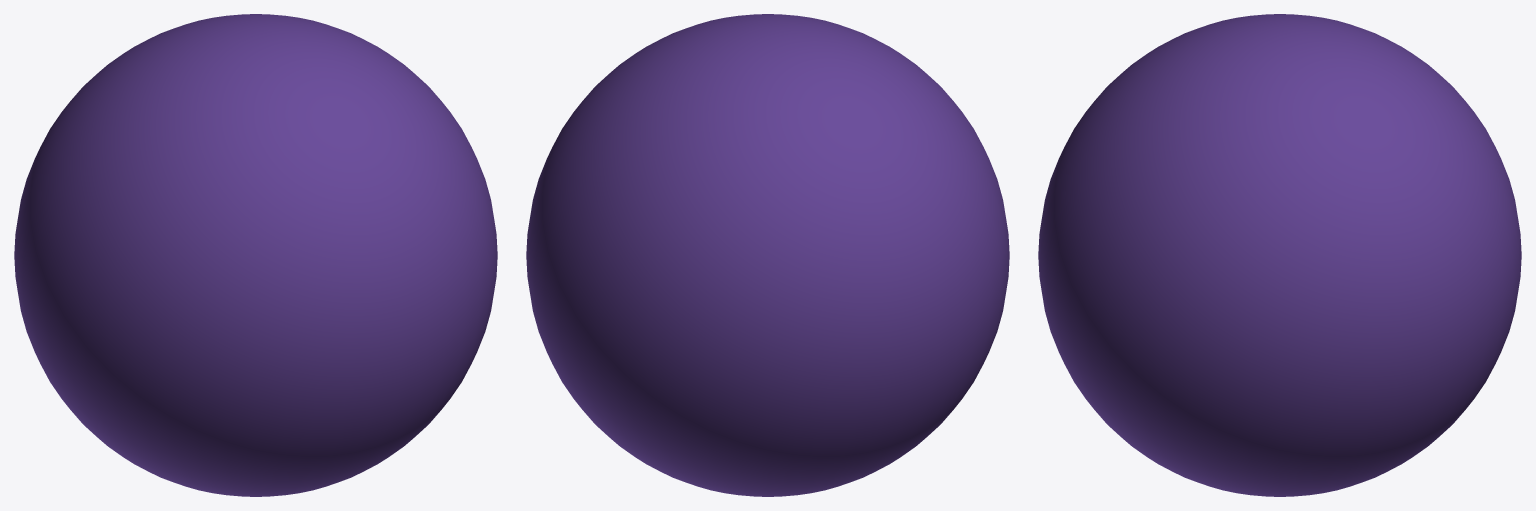
Rendered from planet_5.obj.
3 views of the same model, side by side, from view 1: azimuth 30°, elevation 25°; view 2: azimuth 150°, elevation 25°; view 3: azimuth 270°, elevation 25° (orthographic).
Parts seen in each view (by area): view 1: planet_5; view 2: planet_5; view 3: planet_5.
Boxes of the visible parts, x1,y1,x2,y2 form: planet_5: (14,14,497,496); planet_5: (526,14,1009,496); planet_5: (1038,14,1521,496).
Size of the model in its own units: 2 by 2 by 2.
